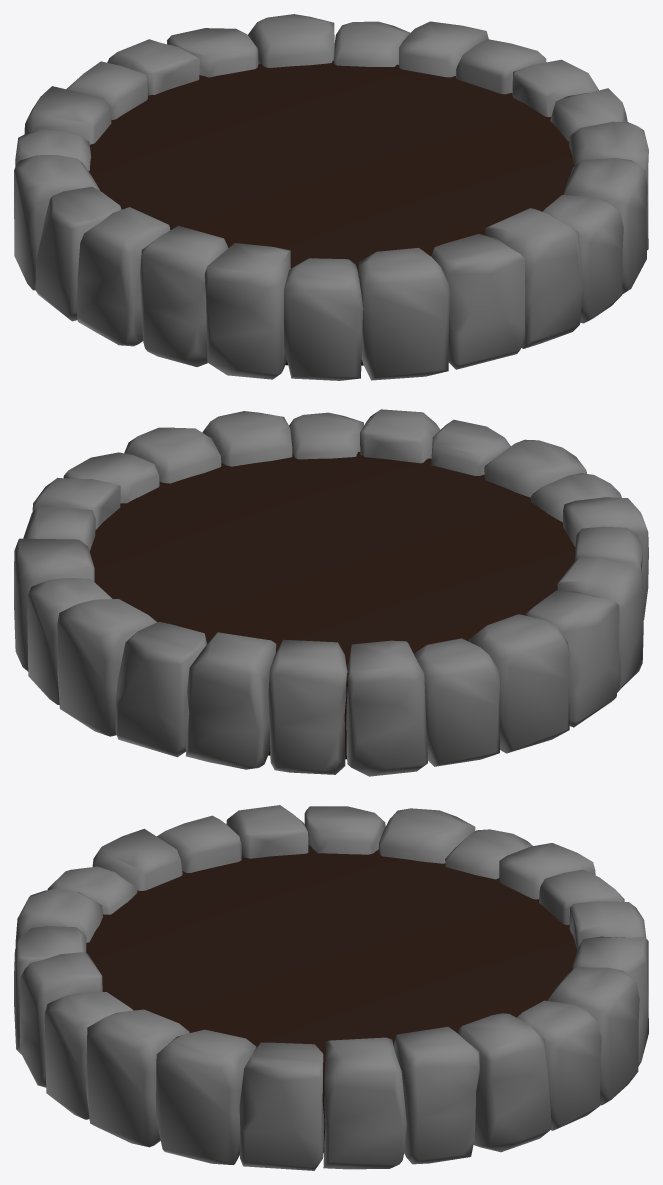
File: SM_flowerbed_03.fbx
The picture shows the model from 3 angles, top to bottom: view 1: azimuth 30°, elevation 25°; view 2: azimuth 150°, elevation 25°; view 3: azimuth 270°, elevation 25°; orthographic projection.
Parts seen in each view (by area): view 1: Object342705; view 2: Object342705; view 3: Object342705.
Boxes of the visible parts, box(x1,y1,x2,y2) form: Object342705: box(14, 14, 648, 380); Object342705: box(14, 409, 648, 776); Object342705: box(14, 805, 648, 1170).
Size of the model in its own units: 104 by 20.66 by 104.
